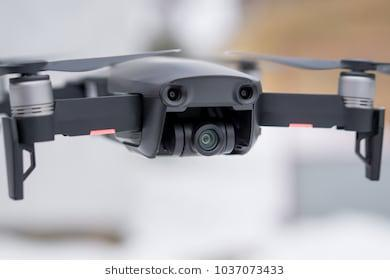drone: (0, 2, 390, 203)
